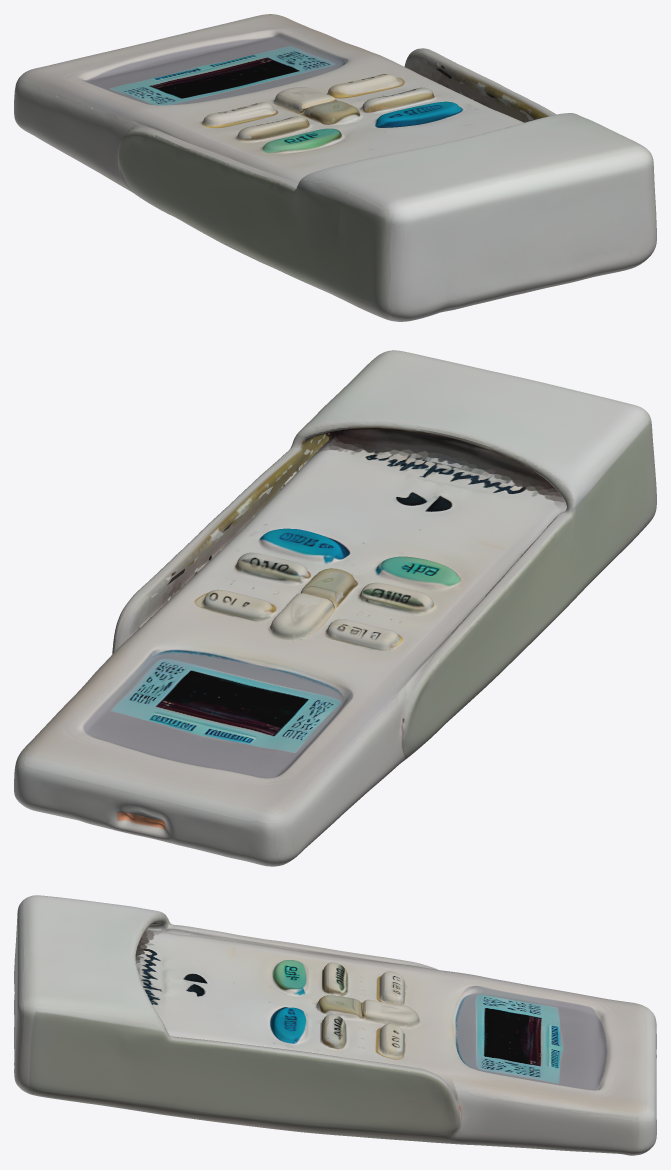
The model's file is result.glb.
3 renders of one model, top to bottom at view 1: azimuth 30°, elevation 25°; view 2: azimuth 150°, elevation 25°; view 3: azimuth 270°, elevation 25°, orthographic. The views are drawn at different scales.
Parts seen in each view (by area): view 1: demo_textured; view 2: demo_textured; view 3: demo_textured.
Boxes of the visible parts, bbox=[...] form: demo_textured: bbox=[14, 14, 656, 321]; demo_textured: bbox=[14, 350, 656, 866]; demo_textured: bbox=[14, 895, 656, 1155].
Size of the model in its own units: 0.8846 by 0.5538 by 1.99.
1 material, 1 textured.
